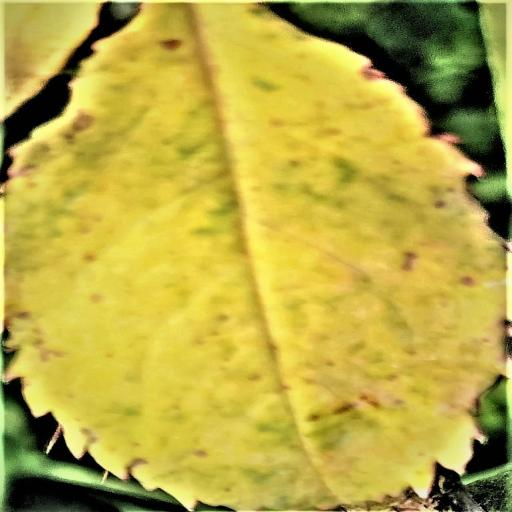red_mite: (5, 3, 505, 512)
